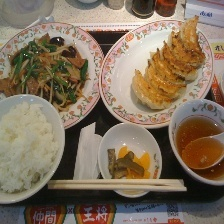rice: (0, 99, 60, 194)
